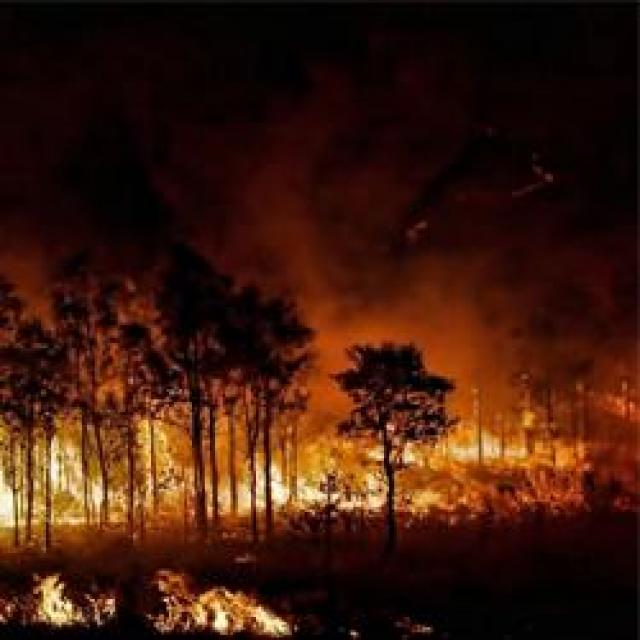fire: (0, 420, 579, 524), (0, 569, 323, 636)
